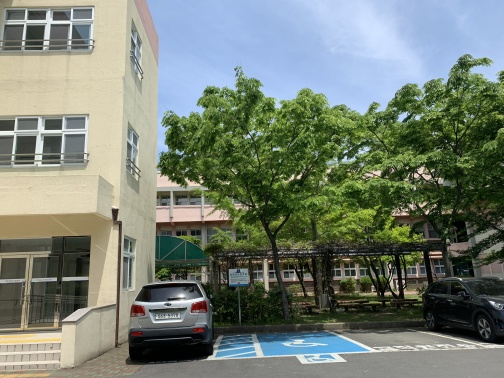College Of Education: (5, 3, 170, 357), (156, 166, 454, 231)
